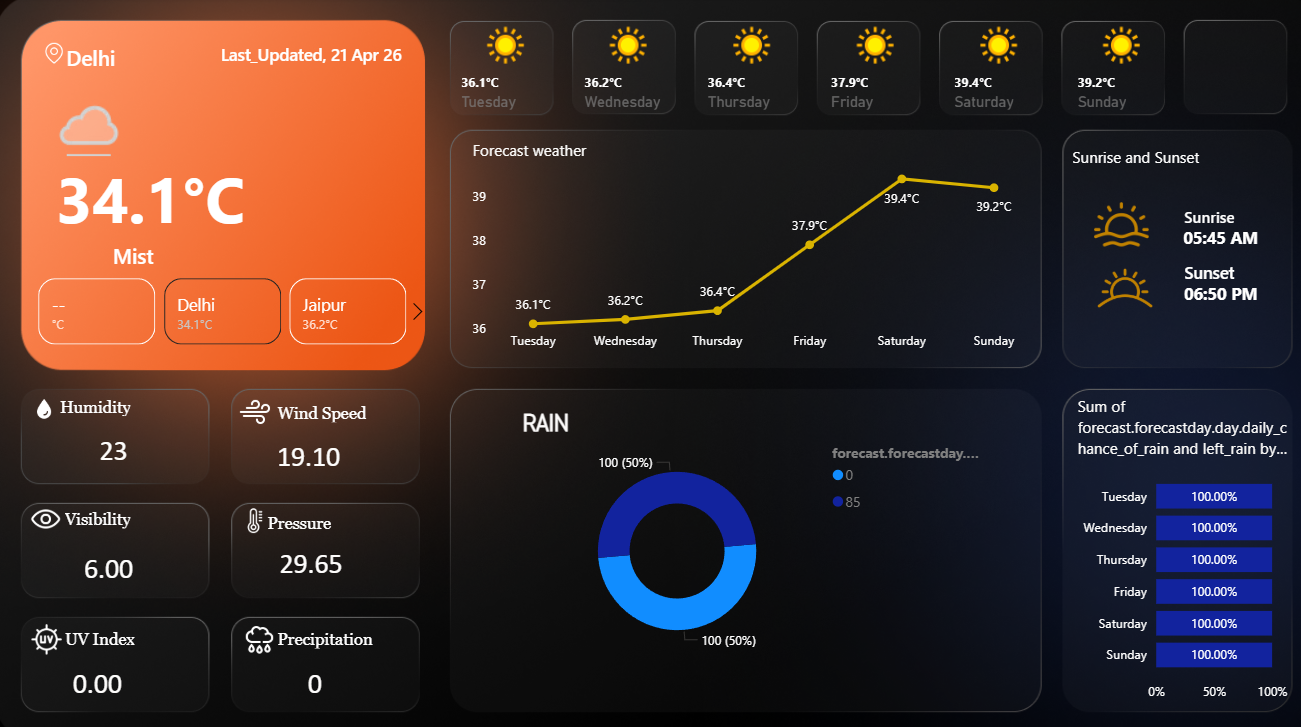

The dashboard page shown, as its layout file describes it:
{"tool":"powerbi","page":{"name":"Page 1","canvas":[1280,720],"ordinal":0},"visuals":[{"type":"advancedSlicerVisual","fields":{"Values":["location.location.name"]},"box":[16.5,266.2,406.2,74.1],"z":0},{"type":"shape","box":[26.1,137.2,247,111.1],"z":1000},{"type":"shape","box":[67.2,231.9,131.7,34.3],"z":2000},{"type":"shape","box":[26.1,41.2,131.7,34.3],"z":3000},{"type":"shape","box":[209,38,193,34],"z":4000},{"type":"image","box":[47,34,20,41],"z":5000},{"type":"cardVisual","fields":{"Data":["Min(current.current.condition.icon)"]},"box":[31.4,17.1,118.6,154.3],"z":6000},{"type":"image","box":[32.9,487.1,32.9,32.9],"z":7000},{"type":"image","box":[37.1,378.6,20,37.1],"z":8000},{"type":"image","box":[235.7,384.3,31.4,31.4],"z":9000},{"type":"image","box":[238.6,491.4,24.3,28.6],"z":10000},{"type":"image","box":[238.6,602.9,32.9,34.3],"z":11000},{"type":"image","box":[32.9,604.3,34.3,31.4],"z":12000},{"type":"shape","box":[62.9,378.6,192.9,32.9],"z":13000},{"type":"shape","box":[272.9,384.3,192.9,32.9],"z":14000},{"type":"shape","box":[67.1,487.1,192.9,32.9],"z":15000},{"type":"shape","box":[262.9,491.4,192.9,32.9],"z":16000},{"type":"shape","box":[67.1,602.9,192.9,32.9],"z":17000},{"type":"shape","box":[272.9,602.9,192.9,32.9],"z":18000},{"type":"card","fields":{"Values":["Sum(current.current.humidity)"]},"box":[72.9,411.4,84.3,52.9],"z":19000},{"type":"card","fields":{"Values":["Sum(current.current.wind_kph)"]},"box":[260,417.1,84.3,52.9],"z":20000},{"type":"card","fields":{"Values":["Sum(current.current.pressure_in)"]},"box":[262.9,520,84.3,52.9],"z":21000},{"type":"card","fields":{"Values":["Sum(current.current.vis_km)"]},"box":[67.1,524.3,84.3,52.9],"z":22000},{"type":"card","fields":{"Values":["Sum(current.current.uv)"]},"box":[57.1,635.7,84.3,52.9],"z":23000},{"type":"card","fields":{"Values":["Sum(current.current.precip_in)"]},"box":[267.1,635.7,84.3,52.9],"z":24000},{"type":"lineChart","title":"Forecast weather","fields":{"Y":["Sum(forcast_days.forecast.forecastday.day.avgtemp_c)"],"Category":["forcast_days.Day_names"]},"box":[456,137.5,548.9,212.3],"z":25000},{"type":"advancedSlicerVisual","fields":{"Label":["_Measures.for_Temp_C"],"Values":["forcast_days.Day_names"]},"box":[431.9,16.9,720.2,111],"z":26000},{"type":"shape","box":[1040,137.5,193,32.6],"z":27000},{"type":"shape","box":[1090.6,170.1,162.9,84.5],"z":28000},{"type":"shape","box":[1101.5,189.4,162.9,84.5],"z":29000},{"type":"shape","box":[1090.6,223.2,162.9,84.5],"z":30000},{"type":"shape","box":[1101.5,243.7,162.9,84.5],"z":31000},{"type":"image","box":[1040,193,94.1,53.1],"z":32000},{"type":"image","box":[1024.3,246.1,132.7,70],"z":33000},{"type":"hundredPercentStackedBarChart","fields":{"Y":["Sum(forcast_days.forecast.forecastday.day.daily_chance_of_rain)","current.left_rain"],"Category":["forcast_days.Day_names"]},"box":[1040,384.3,212.9,304.3],"z":34000},{"type":"donutChart","title":"RAIN","fields":{"Y":["current.left_rain"],"Category":["forcast_days.forecast.forecastday.day.daily_chance_of_rain"]},"box":[504.3,397.1,451.4,247.1],"z":35000}]}

Visuals, with their boxes in screenshot pixels (x1, y1, x2, y2), scaled from the page's 1280x720 canvas onto the 1301x727 screenshot:
advancedSlicerVisual - location.location.name: bbox=(17, 269, 430, 344)
shape: bbox=(27, 139, 278, 251)
shape: bbox=(68, 234, 202, 269)
shape: bbox=(27, 42, 160, 76)
shape: bbox=(212, 38, 409, 73)
image: bbox=(48, 34, 68, 76)
cardVisual - Min(current.current.condition.icon): bbox=(32, 17, 152, 173)
image: bbox=(33, 492, 67, 525)
image: bbox=(38, 382, 58, 420)
image: bbox=(240, 388, 271, 420)
image: bbox=(243, 496, 267, 525)
image: bbox=(243, 609, 276, 643)
image: bbox=(33, 610, 68, 642)
shape: bbox=(64, 382, 260, 416)
shape: bbox=(277, 388, 473, 421)
shape: bbox=(68, 492, 264, 525)
shape: bbox=(267, 496, 463, 529)
shape: bbox=(68, 609, 264, 642)
shape: bbox=(277, 609, 473, 642)
card - Sum(current.current.humidity): bbox=(74, 415, 160, 469)
card - Sum(current.current.wind_kph): bbox=(264, 421, 350, 475)
card - Sum(current.current.pressure_in): bbox=(267, 525, 353, 578)
card - Sum(current.current.vis_km): bbox=(68, 529, 154, 583)
card - Sum(current.current.uv): bbox=(58, 642, 144, 695)
card - Sum(current.current.precip_in): bbox=(271, 642, 357, 695)
"Forecast weather" lineChart: bbox=(463, 139, 1021, 353)
advancedSlicerVisual - _Measures.for_Temp_C x forcast_days.Day_names: bbox=(439, 17, 1171, 129)
shape: bbox=(1057, 139, 1253, 172)
shape: bbox=(1108, 172, 1274, 257)
shape: bbox=(1120, 191, 1285, 277)
shape: bbox=(1108, 225, 1274, 311)
shape: bbox=(1120, 246, 1285, 331)
image: bbox=(1057, 195, 1153, 248)
image: bbox=(1041, 248, 1176, 319)
hundredPercentStackedBarChart - Sum(forcast_days.forecast.forecastday.day.daily_chance_of_rain) x current.left_rain: bbox=(1057, 388, 1273, 695)
"RAIN" donutChart: bbox=(513, 401, 971, 650)
